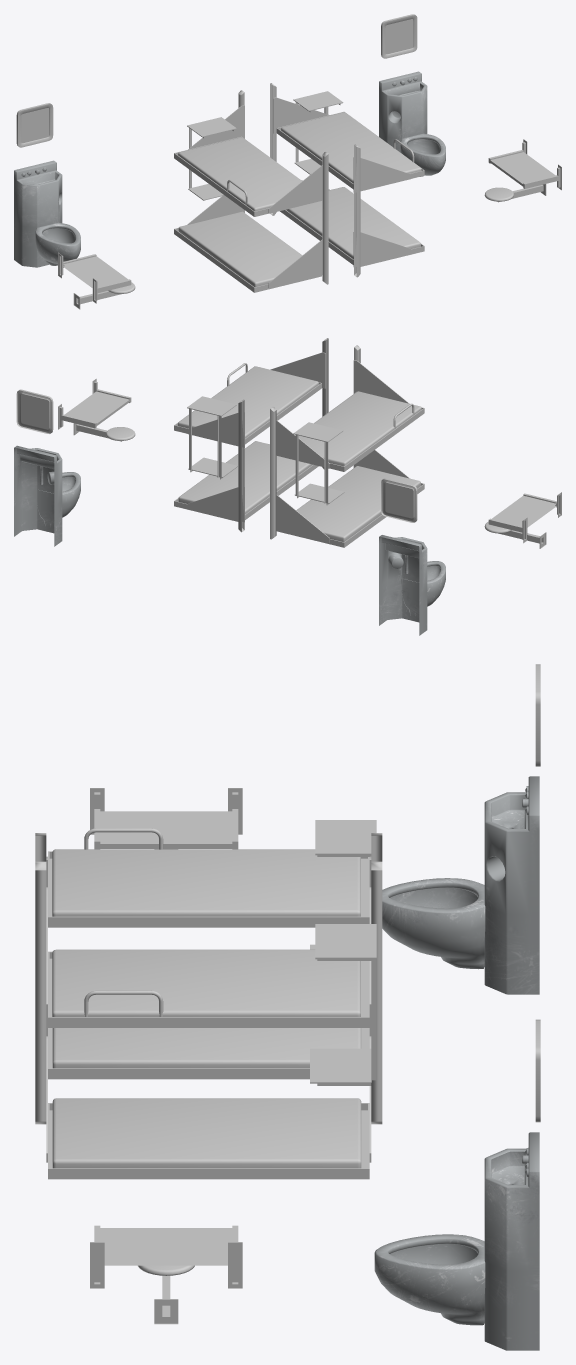
The model's file is SM_Cell_02_Preset_Juvenile.fbx.
3 renders of one model, top to bottom at view 1: azimuth 30°, elevation 25°; view 2: azimuth 150°, elevation 25°; view 3: azimuth 270°, elevation 25°, orthographic. The views are drawn at different scales.
Visible parts, largest first — view 1: SM_Cell_02_Preset_Juvenile_LOD0; view 2: SM_Cell_02_Preset_Juvenile_LOD0; view 3: SM_Cell_02_Preset_Juvenile_LOD0.
Part boxes in pixels (left/top/right/bottom): SM_Cell_02_Preset_Juvenile_LOD0: left=14, top=14, right=561, bottom=309; SM_Cell_02_Preset_Juvenile_LOD0: left=14, top=338, right=561, bottom=635; SM_Cell_02_Preset_Juvenile_LOD0: left=35, top=664, right=540, bottom=1350.
Bounding box in the file's own units: 661 × 310 × 206.
